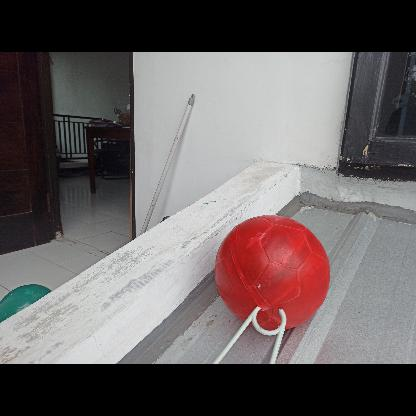red_ball: (218, 214, 332, 328)
